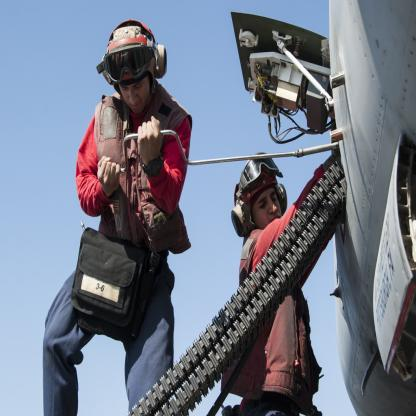Helmet: (98, 21, 164, 110), (227, 156, 291, 235)
